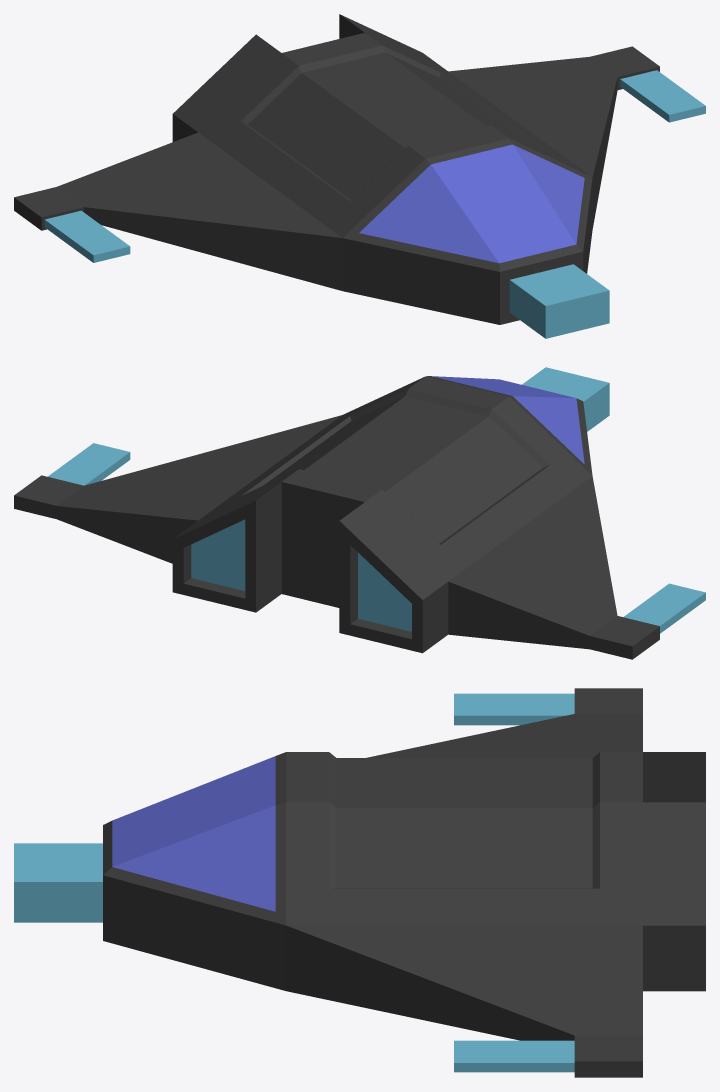
The model's file is player.fbx.
3 renders of one model, top to bottom at view 1: azimuth 30°, elevation 25°; view 2: azimuth 150°, elevation 25°; view 3: azimuth 270°, elevation 25°, orthographic. The views are drawn at different scales.
Visible parts, largest first — view 1: Cube; view 2: Cube; view 3: Cube.
Part boxes in pixels (<box>): Cube: <box>14,14,705,338</box>; Cube: <box>14,367,705,659</box>; Cube: <box>14,688,705,1077</box>.
Bounding box in the file's own units: 495 × 85.79 × 388.
